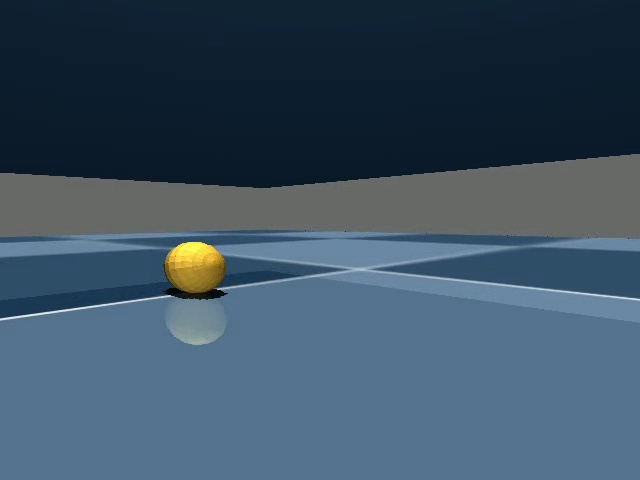lemon: (158, 235, 233, 305)
